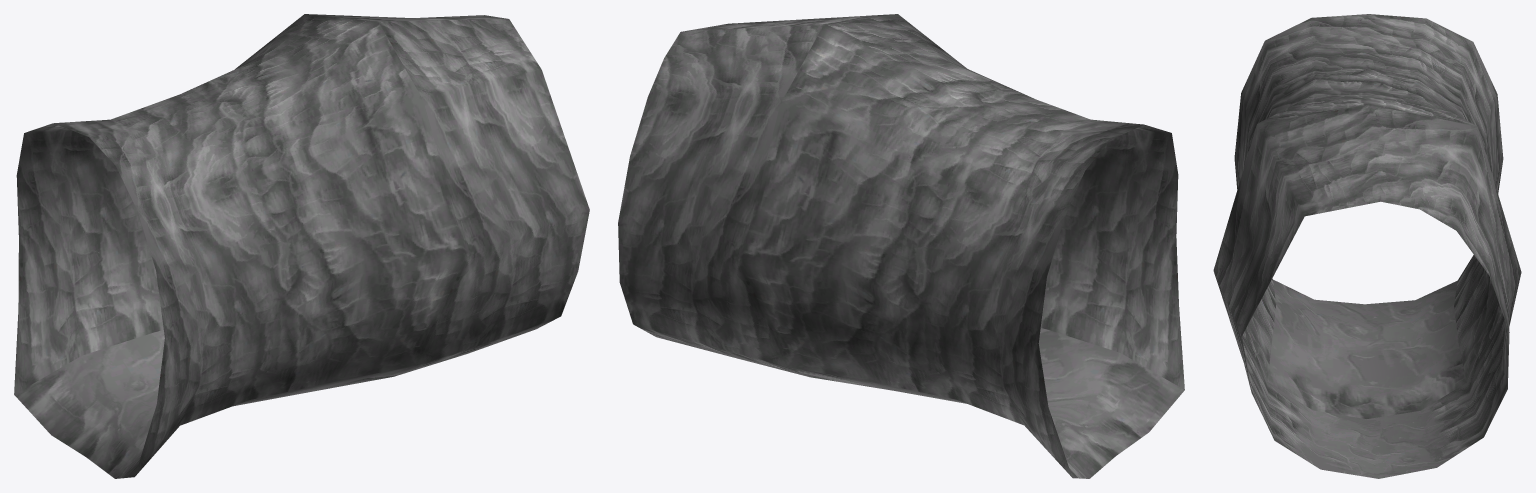
File: SWORDLIGHT20_PS-AREA03_16.obj
3 renders of one model, left to right at view 1: azimuth 30°, elevation 25°; view 2: azimuth 150°, elevation 25°; view 3: azimuth 270°, elevation 25°, orthographic. The views are drawn at different scales.
Parts seen in each view (by area): view 1: PS-Area03_16; view 2: PS-Area03_16; view 3: PS-Area03_16.
Part boxes in pixels (box(x1,y1,x2,y2)): PS-Area03_16: box(14, 14, 589, 478); PS-Area03_16: box(618, 14, 1184, 478); PS-Area03_16: box(1213, 14, 1521, 478).
Bounding box in the file's own units: 940 × 722 × 587.
